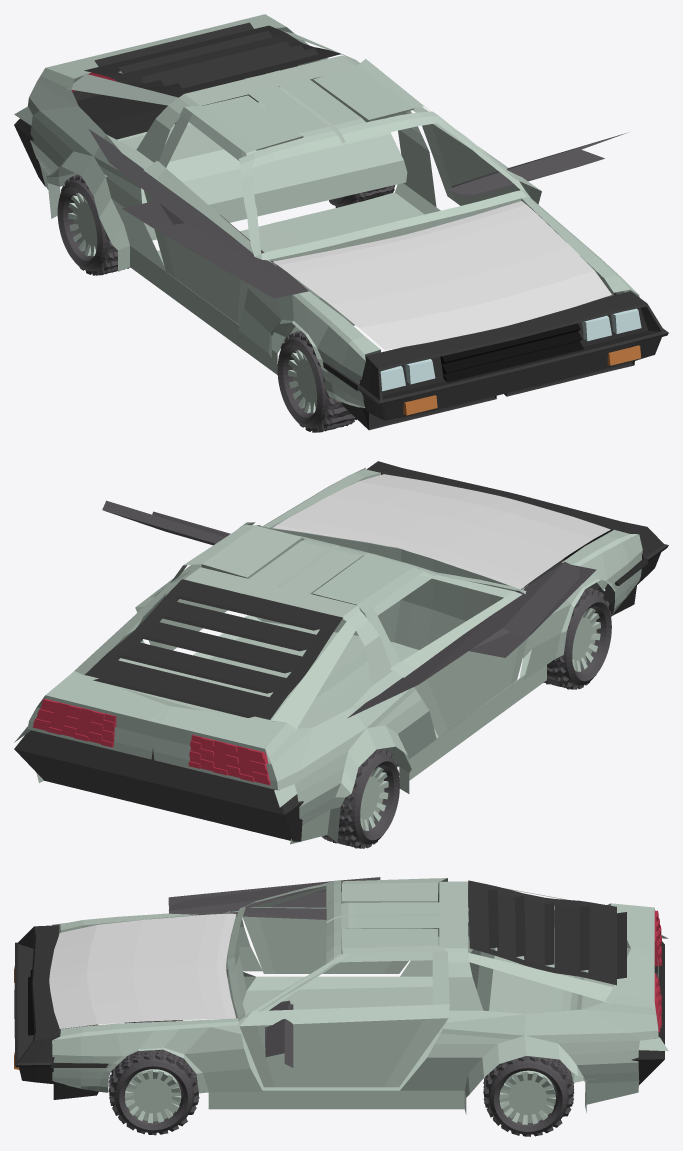
The model's file is deloreanDT.fbx.
The picture shows the model from 3 angles, top to bottom: view 1: azimuth 30°, elevation 25°; view 2: azimuth 150°, elevation 25°; view 3: azimuth 270°, elevation 25°; orthographic projection. The views are drawn at different scales.
Parts seen in each view (by area): view 1: body, hood, frontBumper, rightDoor, tailBlinds, doorRearviewMirror.001, leftDoor, radiatorFront, backBumper, rightTire, rightTire.001, doorRearviewMirror (+2 smaller); view 2: body, tailBlinds, hood, backBumper, rightDoor, doorRearviewMirror.001, leftDoor, frontBumper, rightTire.001, rightTire, Cube.002, Cube.001 (+3 smaller); view 3: body, hood, leftDoor, tailBlinds, rightDoor, frontBumper, doorRearviewMirror.001, leftTire, leftTire.001, leftFrontRin, BackleftFrontRin, doorRearviewMirror (+2 smaller).
Part boxes in pixels (left/top/right/bottom): body: left=14, top=14, right=639, bottom=408; hood: left=273, top=201, right=611, bottom=350; frontBumper: left=323, top=291, right=668, bottom=430; rightDoor: left=143, top=95, right=303, bottom=325; tailBlinds: left=84, top=22, right=340, bottom=93; doorRearviewMirror.001: left=89, top=129, right=308, bottom=298; leftDoor: left=313, top=59, right=541, bottom=205; radiatorFront: left=440, top=323, right=583, bottom=382; backBumper: left=14, top=65, right=297, bottom=186; rightTire: left=277, top=331, right=356, bottom=432; rightTire.001: left=57, top=174, right=129, bottom=275; doorRearviewMirror: left=446, top=132, right=627, bottom=198; body: left=14, top=467, right=642, bottom=844; tailBlinds: left=85, top=579, right=342, bottom=719; hood: left=273, top=474, right=610, bottom=589; backBumper: left=14, top=730, right=303, bottom=841; rightDoor: left=312, top=553, right=527, bottom=736; doorRearviewMirror.001: left=347, top=562, right=596, bottom=718; leftDoor: left=135, top=522, right=302, bottom=650; frontBumper: left=366, top=461, right=668, bottom=616; rightTire.001: left=321, top=748, right=399, bottom=848; rightTire: left=543, top=587, right=611, bottom=689; Cube.002: left=188, top=735, right=270, bottom=785; Cube.001: left=32, top=699, right=116, bottom=747; body: left=52, top=880, right=668, bottom=1114; hood: left=49, top=913, right=236, bottom=1028; leftDoor: left=239, top=929, right=449, bottom=1087; tailBlinds: left=468, top=880, right=626, bottom=985; rightDoor: left=242, top=878, right=447, bottom=973; frontBumper: left=14, top=925, right=108, bottom=1099; doorRearviewMirror.001: left=168, top=877, right=468, bottom=919; leftTire: left=108, top=1049, right=199, bottom=1135; leftTire.001: left=483, top=1056, right=574, bottom=1136; leftFrontRin: left=124, top=1069, right=181, bottom=1123; BackleftFrontRin: left=499, top=1070, right=555, bottom=1124; doorRearviewMirror: left=265, top=1000, right=293, bottom=1067.
Bounding box in the file's own units: 632 × 254 × 910.
